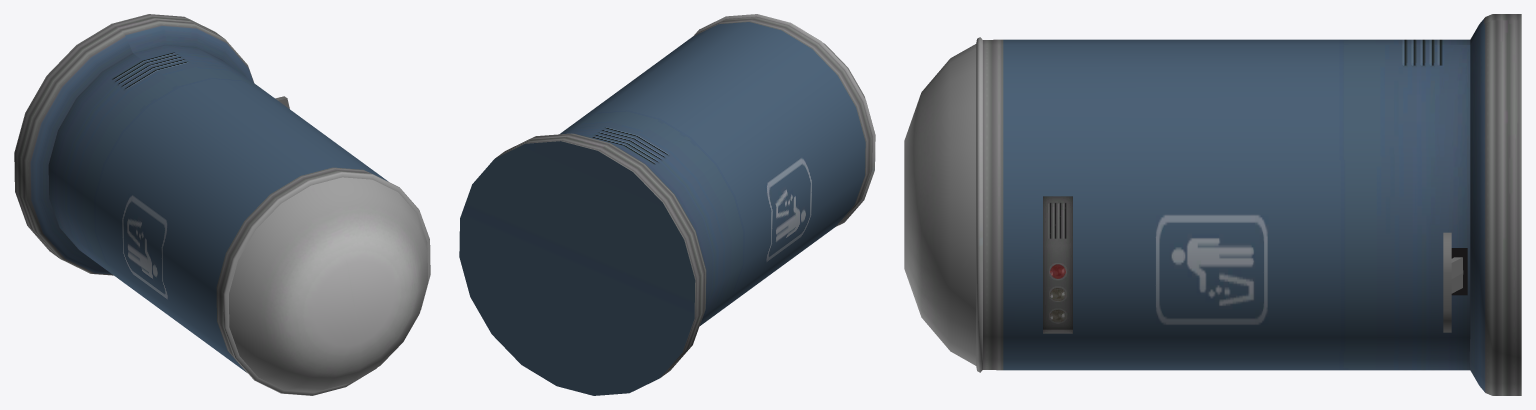
File: nt_trash_compactor_blue_LOD0.obj
The picture shows the model from 3 angles, left to right: view 1: azimuth 30°, elevation 25°; view 2: azimuth 150°, elevation 25°; view 3: azimuth 270°, elevation 25°; orthographic projection. The views are drawn at different scales.
Parts seen in each view (by area): view 1: mtl_nt_trash_compactor; view 2: mtl_nt_trash_compactor; view 3: mtl_nt_trash_compactor.
Part boxes in pixels (x1,y1,x2,y2): mtl_nt_trash_compactor: (14, 14, 430, 395); mtl_nt_trash_compactor: (459, 14, 875, 395); mtl_nt_trash_compactor: (904, 14, 1521, 395).
Size of the model in its own units: 61.7 by 58.17 by 94.8.
